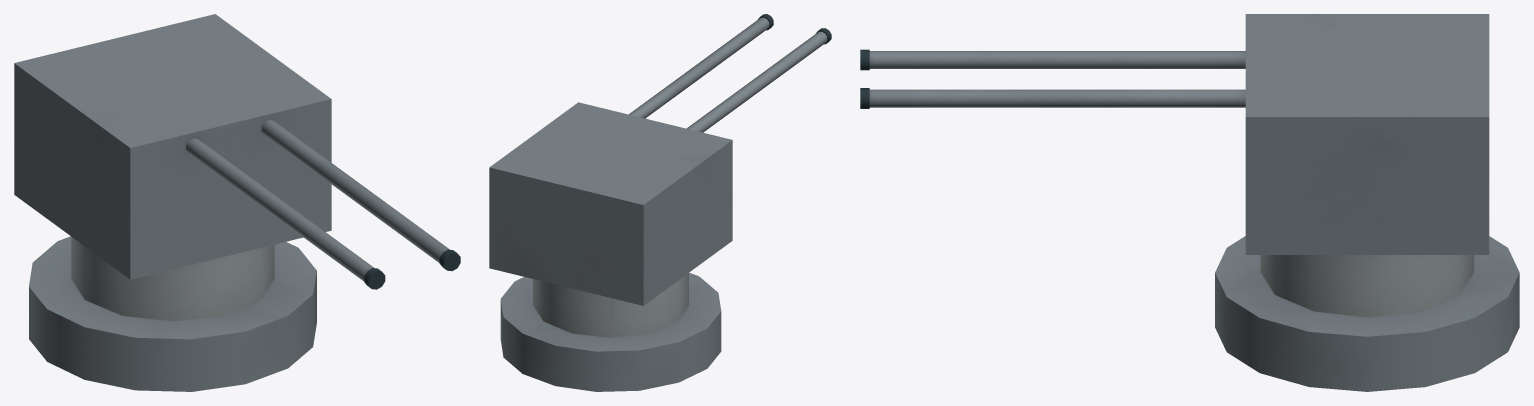
Rendered from naval-aa.fbx.
3 views of the same model, side by side, from view 1: azimuth 30°, elevation 25°; view 2: azimuth 150°, elevation 25°; view 3: azimuth 270°, elevation 25° (orthographic). The views are drawn at different scales.
Parts seen in each view (by area): view 1: naval-aa; view 2: naval-aa; view 3: naval-aa.
Part boxes in pixels (left/top/right/bottom): naval-aa: left=14, top=14, right=460, bottom=391; naval-aa: left=489, top=14, right=831, bottom=391; naval-aa: left=860, top=14, right=1519, bottom=391.
Size of the model in its own units: 10 by 9.5 by 21.65.
1 material, 1 textured.
